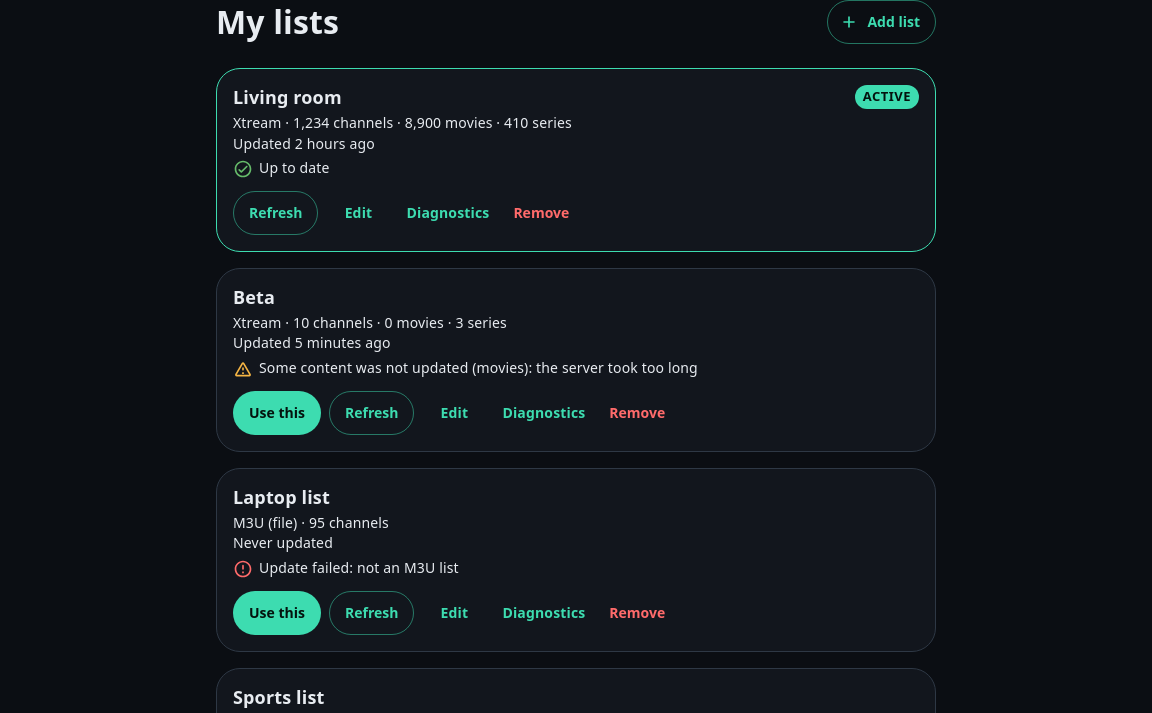
Test: SRC-08 AC3 — remove › confirmation names the list; Cancel keeps it
The image size is (1152, 713).
Click the button "Remove" below "Updated 5 minutes ago" at (637, 413), box [601,391,673,435]
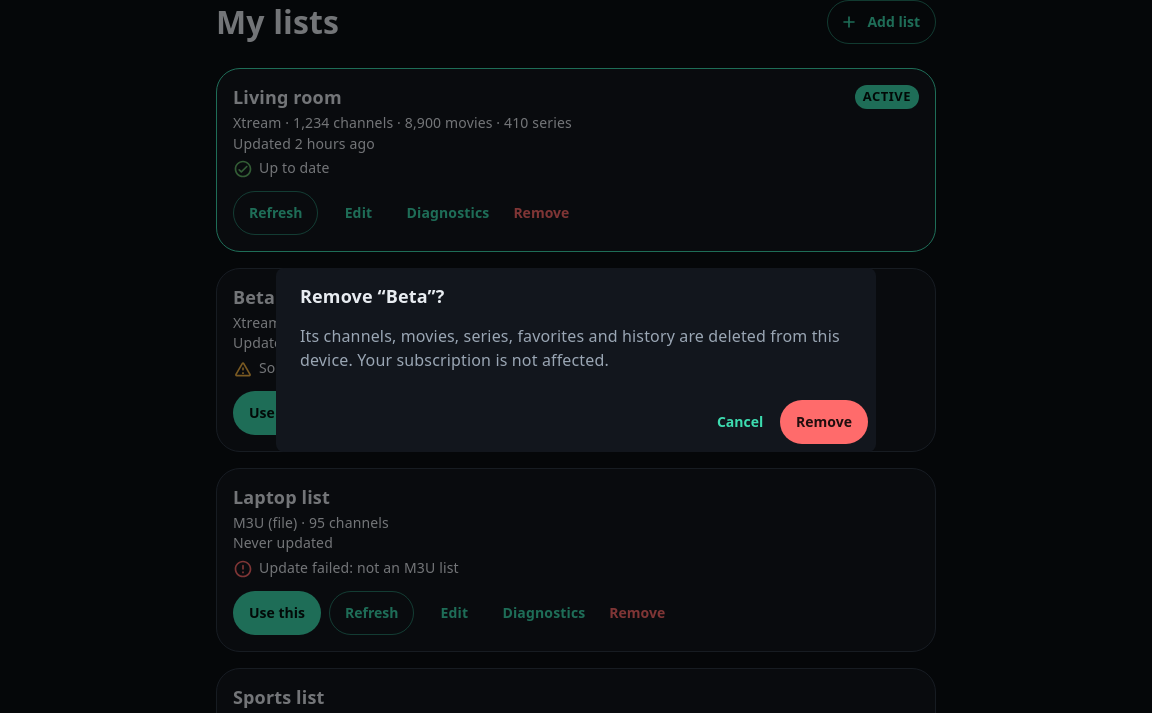
Click the button "Cancel" at (740, 422), box [708,400,772,444]
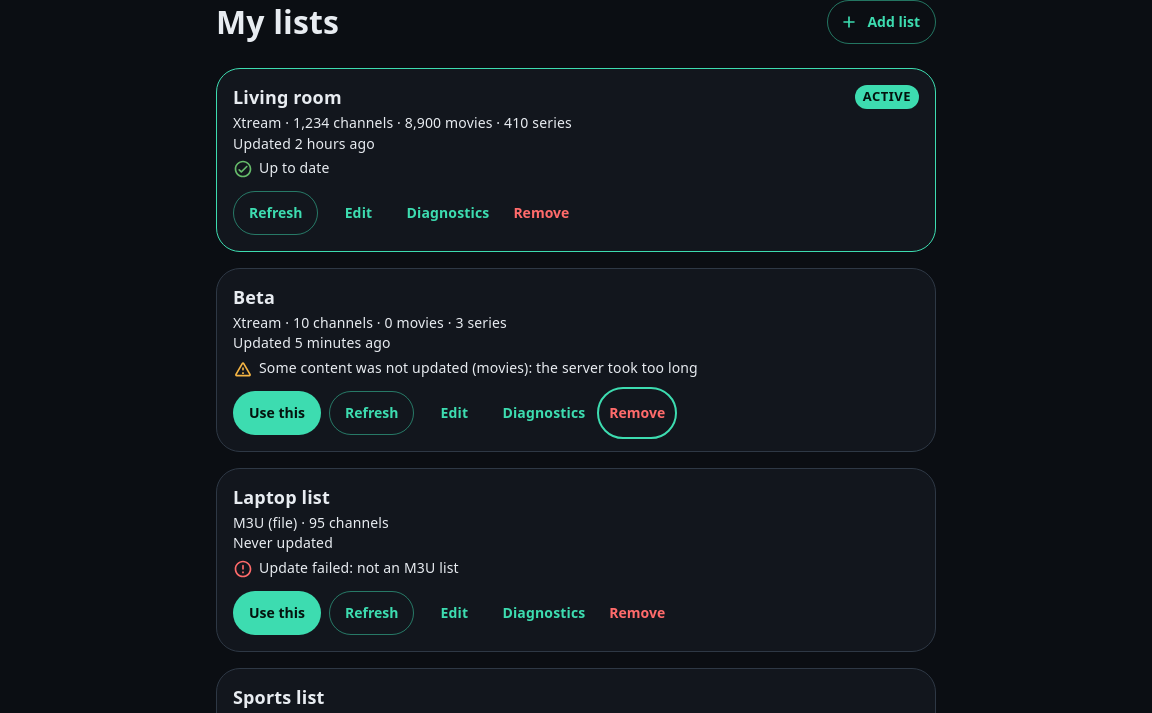
Expected: the dialog is gone
